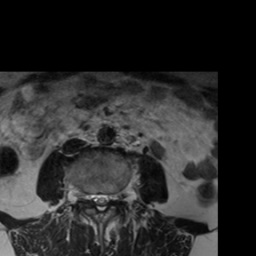CCS_normal: (96, 185, 104, 217)
LFS_normal: (111, 185, 119, 208)
LLS_stenosis: (104, 186, 111, 212)
RFS_normal: (83, 185, 90, 208)
RLS_normal: (90, 185, 97, 210)
